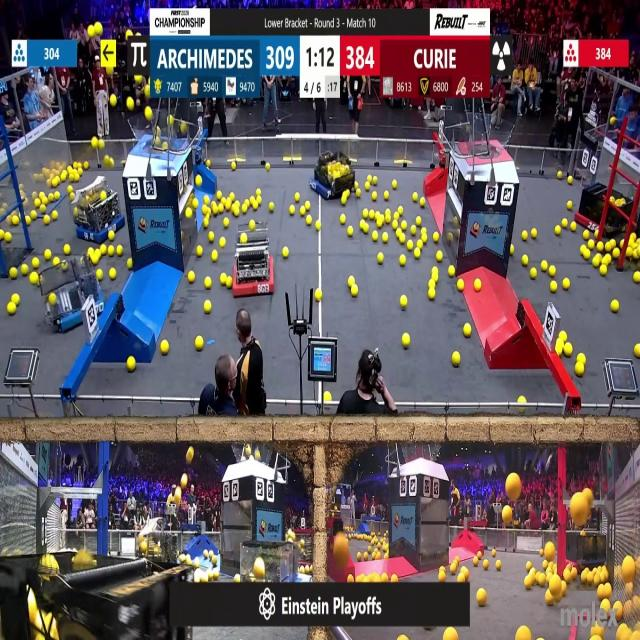ball_airborne: (508, 475, 522, 500), (571, 492, 586, 515), (624, 558, 635, 578), (501, 508, 512, 524), (173, 489, 182, 503), (49, 622, 56, 640), (186, 448, 193, 464), (180, 476, 188, 489), (127, 99, 135, 111), (145, 107, 152, 119), (109, 96, 116, 108), (89, 26, 96, 38), (154, 136, 160, 150), (98, 138, 105, 150), (100, 60, 108, 70), (107, 65, 114, 76), (96, 24, 102, 36), (93, 137, 99, 149), (145, 88, 150, 99), (136, 75, 142, 84), (609, 117, 615, 125), (169, 116, 174, 125), (169, 494, 174, 503)
ball_ground: (518, 627, 530, 640), (478, 590, 487, 607), (445, 628, 458, 639), (544, 542, 552, 559), (128, 356, 136, 371), (162, 341, 170, 355), (194, 338, 202, 352), (544, 592, 552, 606), (598, 586, 606, 600), (536, 573, 545, 585), (105, 158, 114, 170), (401, 335, 409, 348), (575, 362, 583, 375), (377, 215, 385, 228), (556, 343, 564, 356), (525, 576, 533, 589), (451, 352, 458, 366), (610, 302, 618, 314), (9, 268, 17, 280), (7, 304, 15, 316), (30, 273, 38, 285), (564, 345, 572, 357), (464, 323, 471, 336), (315, 288, 322, 301), (209, 569, 217, 580), (563, 278, 570, 290), (187, 272, 194, 284), (474, 280, 481, 292), (399, 294, 406, 306), (205, 302, 212, 314), (440, 569, 447, 581), (350, 286, 358, 296), (414, 249, 422, 259), (32, 260, 40, 270), (11, 294, 19, 304), (602, 600, 610, 610), (602, 254, 610, 264), (576, 353, 584, 363), (100, 246, 108, 256), (551, 282, 558, 293), (449, 267, 456, 278), (435, 251, 442, 262), (241, 234, 248, 245), (205, 278, 212, 289), (584, 249, 591, 260), (550, 267, 557, 278), (458, 280, 464, 292), (98, 270, 104, 282), (212, 250, 218, 262), (600, 266, 606, 278), (48, 292, 54, 304), (431, 270, 437, 282), (356, 573, 364, 582), (561, 583, 567, 595), (109, 270, 116, 280), (108, 232, 115, 242), (635, 344, 640, 358), (115, 246, 122, 256), (93, 254, 100, 264), (185, 208, 192, 218), (11, 215, 18, 225), (597, 242, 604, 252), (398, 235, 405, 245), (234, 206, 241, 216), (22, 266, 29, 276), (451, 564, 458, 574), (5, 234, 12, 244), (540, 262, 547, 272), (559, 333, 566, 343), (614, 248, 621, 258), (608, 240, 615, 250), (634, 273, 640, 284), (283, 247, 289, 258), (226, 277, 232, 288), (348, 225, 354, 236), (428, 289, 434, 300), (204, 217, 210, 228), (220, 275, 226, 286), (564, 569, 570, 580), (390, 574, 398, 582), (202, 574, 210, 582), (369, 572, 377, 580), (235, 574, 242, 583), (428, 280, 435, 289), (203, 206, 210, 215), (54, 256, 61, 265), (211, 203, 218, 212), (51, 178, 58, 187), (64, 245, 70, 255), (378, 253, 384, 263), (523, 255, 529, 265), (371, 232, 377, 242), (219, 238, 225, 248), (399, 255, 405, 265), (556, 224, 562, 234), (530, 270, 536, 280), (523, 232, 529, 242), (584, 231, 590, 241), (108, 246, 114, 256), (249, 220, 255, 230), (382, 234, 388, 244), (570, 221, 576, 231), (412, 224, 418, 234), (484, 560, 490, 570), (195, 246, 201, 256), (362, 222, 368, 232), (408, 242, 414, 252), (128, 261, 134, 271), (392, 220, 398, 230), (44, 214, 50, 224), (44, 250, 50, 260), (400, 220, 406, 230), (594, 256, 600, 266), (589, 240, 595, 250), (269, 202, 275, 212), (349, 277, 355, 287), (458, 572, 464, 582), (324, 391, 330, 401), (194, 176, 200, 186), (242, 205, 248, 215), (251, 200, 257, 210), (224, 202, 230, 212), (386, 212, 392, 222), (348, 574, 355, 582), (519, 396, 526, 404), (507, 246, 514, 254), (341, 215, 347, 224), (289, 206, 295, 215), (362, 210, 368, 219), (416, 217, 422, 226), (472, 558, 478, 567), (26, 216, 32, 225), (299, 207, 305, 216), (562, 219, 568, 228), (212, 557, 218, 566), (356, 553, 362, 562), (34, 200, 40, 209), (382, 572, 388, 581), (594, 232, 600, 241), (316, 220, 321, 230), (433, 234, 438, 244), (209, 234, 214, 244), (223, 218, 228, 228), (216, 190, 221, 200), (368, 210, 373, 220), (307, 216, 313, 224), (566, 202, 572, 210), (370, 190, 376, 198), (420, 199, 426, 207), (413, 192, 419, 200), (341, 198, 347, 206), (422, 236, 428, 244), (266, 164, 272, 172), (417, 241, 423, 249), (526, 562, 532, 570), (74, 174, 80, 182), (48, 192, 54, 200), (55, 191, 61, 199), (393, 212, 399, 220), (532, 230, 537, 239), (392, 180, 397, 189), (306, 202, 311, 211), (232, 163, 237, 172), (496, 561, 501, 570), (398, 207, 403, 216), (218, 204, 223, 213), (363, 553, 368, 562), (0, 231, 4, 242), (68, 185, 74, 192), (557, 172, 563, 179), (78, 169, 84, 176), (204, 195, 210, 202), (354, 182, 360, 189), (294, 192, 299, 200), (54, 211, 58, 221), (492, 550, 497, 558), (192, 200, 196, 210), (364, 182, 369, 190), (83, 163, 88, 171), (631, 234, 636, 242), (70, 194, 75, 202), (207, 161, 212, 169), (621, 240, 626, 248), (398, 635, 406, 640), (344, 190, 349, 198), (356, 188, 360, 197), (385, 190, 389, 199), (32, 211, 36, 220), (449, 235, 454, 242), (40, 207, 45, 214), (205, 551, 209, 559), (372, 179, 376, 187), (90, 248, 94, 256), (230, 194, 234, 202), (568, 177, 572, 184), (256, 188, 260, 195), (384, 554, 388, 561), (422, 226, 426, 232)
goal: (128, 113, 188, 152), (460, 118, 518, 158)
robot_blue: (46, 259, 92, 333), (74, 183, 124, 245), (309, 150, 354, 198)
robot_red: (234, 233, 274, 296), (578, 174, 609, 228)
